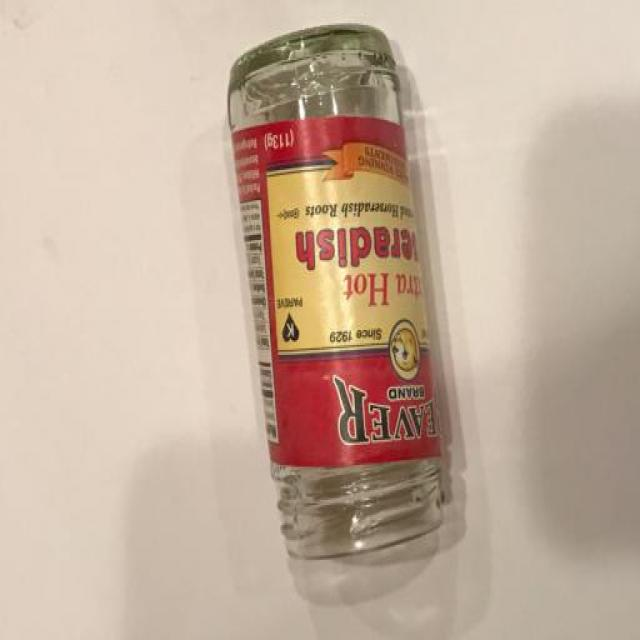glass: (200, 23, 509, 624)
